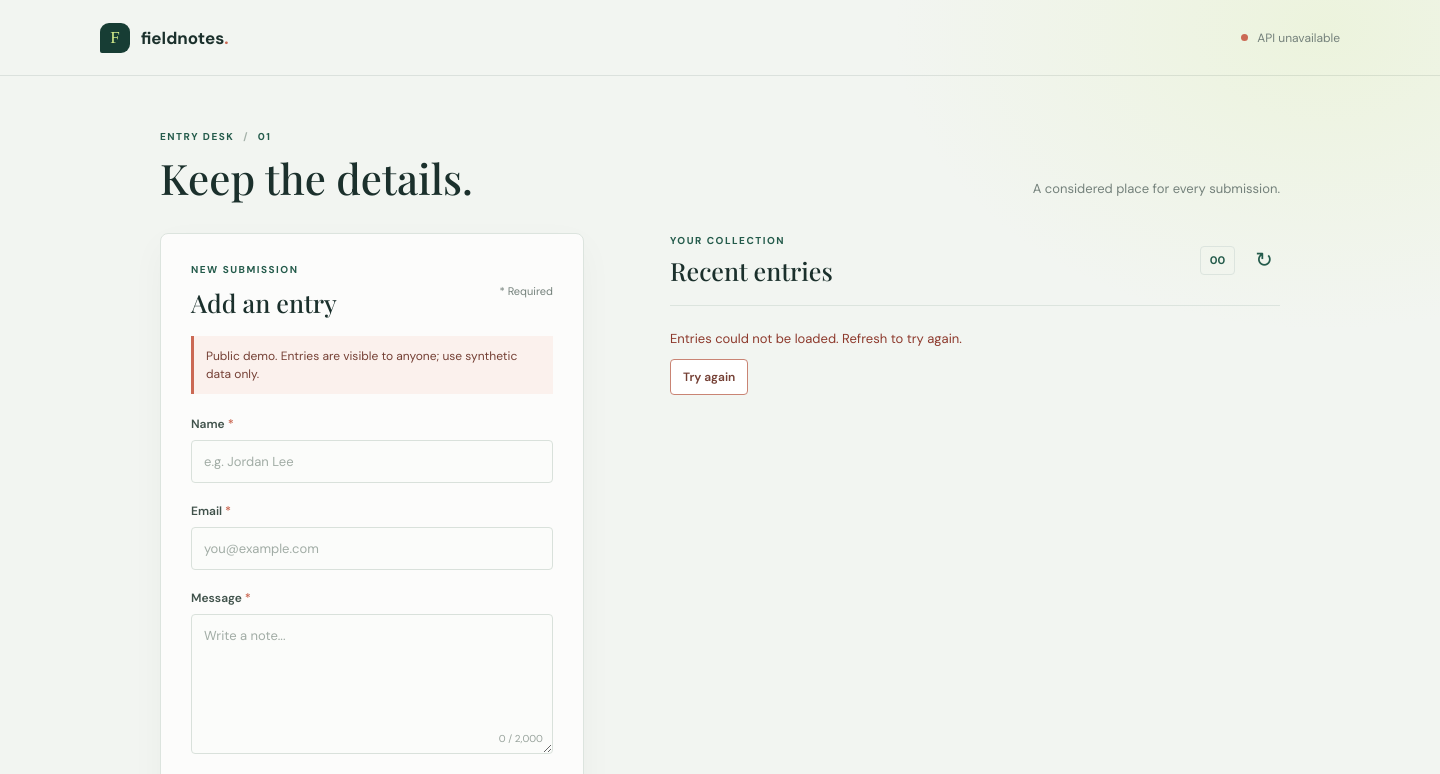
Test: public entries client › distinguishes a failed initial load from an empty collection and retries
Expected: the message "Entries could not be loaded. Refresh to try again. Try again" is shown, [670, 330, 962, 395]
Click the button with test id "entries-retry-button".
click(709, 377)  # box [670, 359, 748, 395]
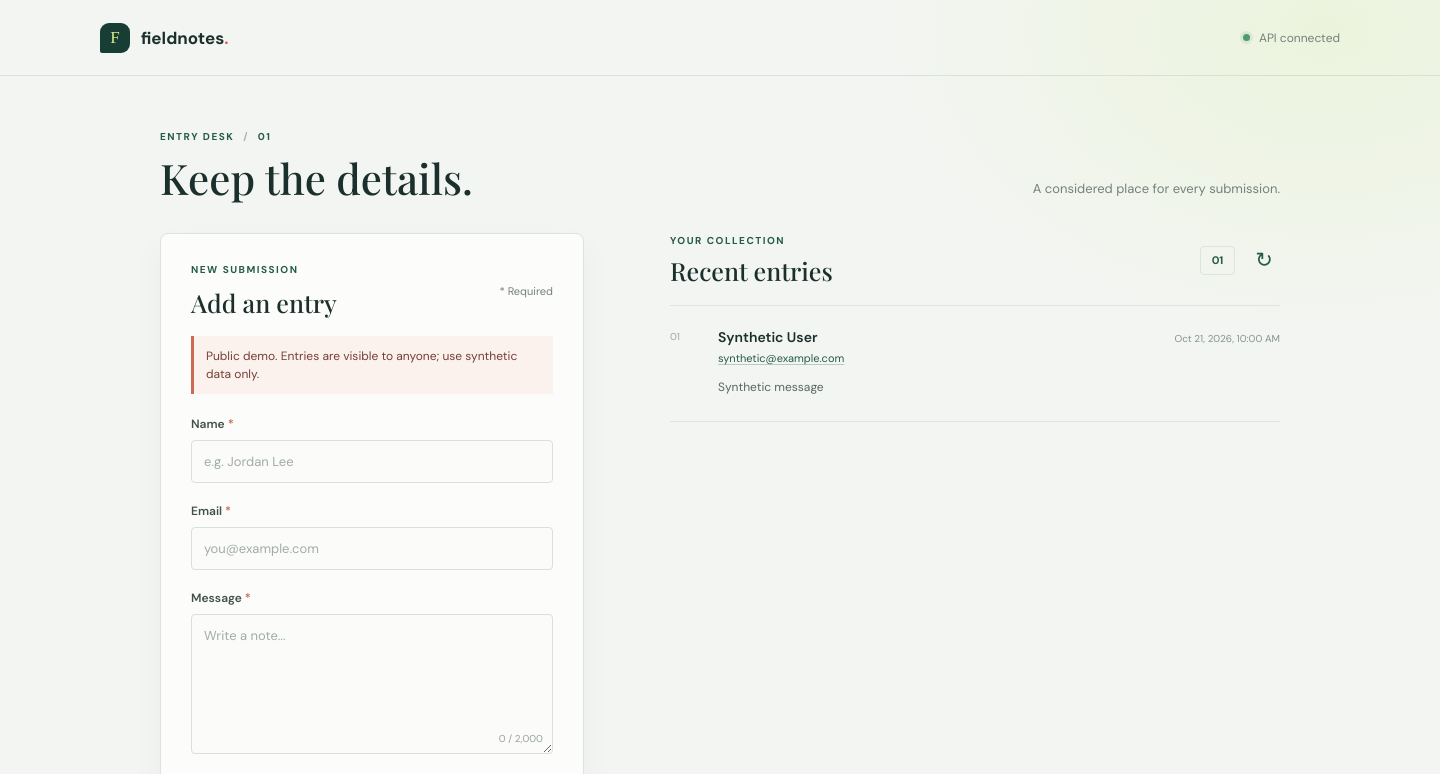
Result: the heading "Synthetic User" is shown at [718, 328, 818, 346]
Result: the text with test id "entry-count" reads "01" at [1212, 253, 1223, 267]
